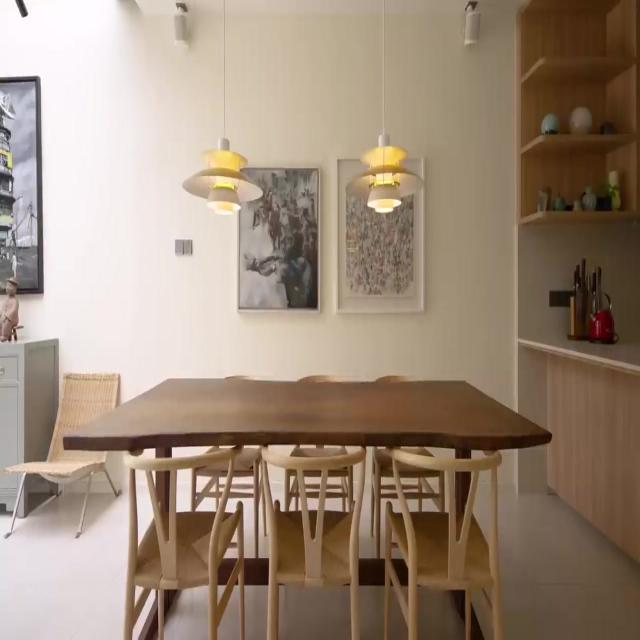obstacle: (62, 374, 552, 638), (123, 446, 245, 639), (383, 447, 503, 639), (257, 442, 368, 640), (3, 372, 121, 538), (0, 336, 59, 515)
